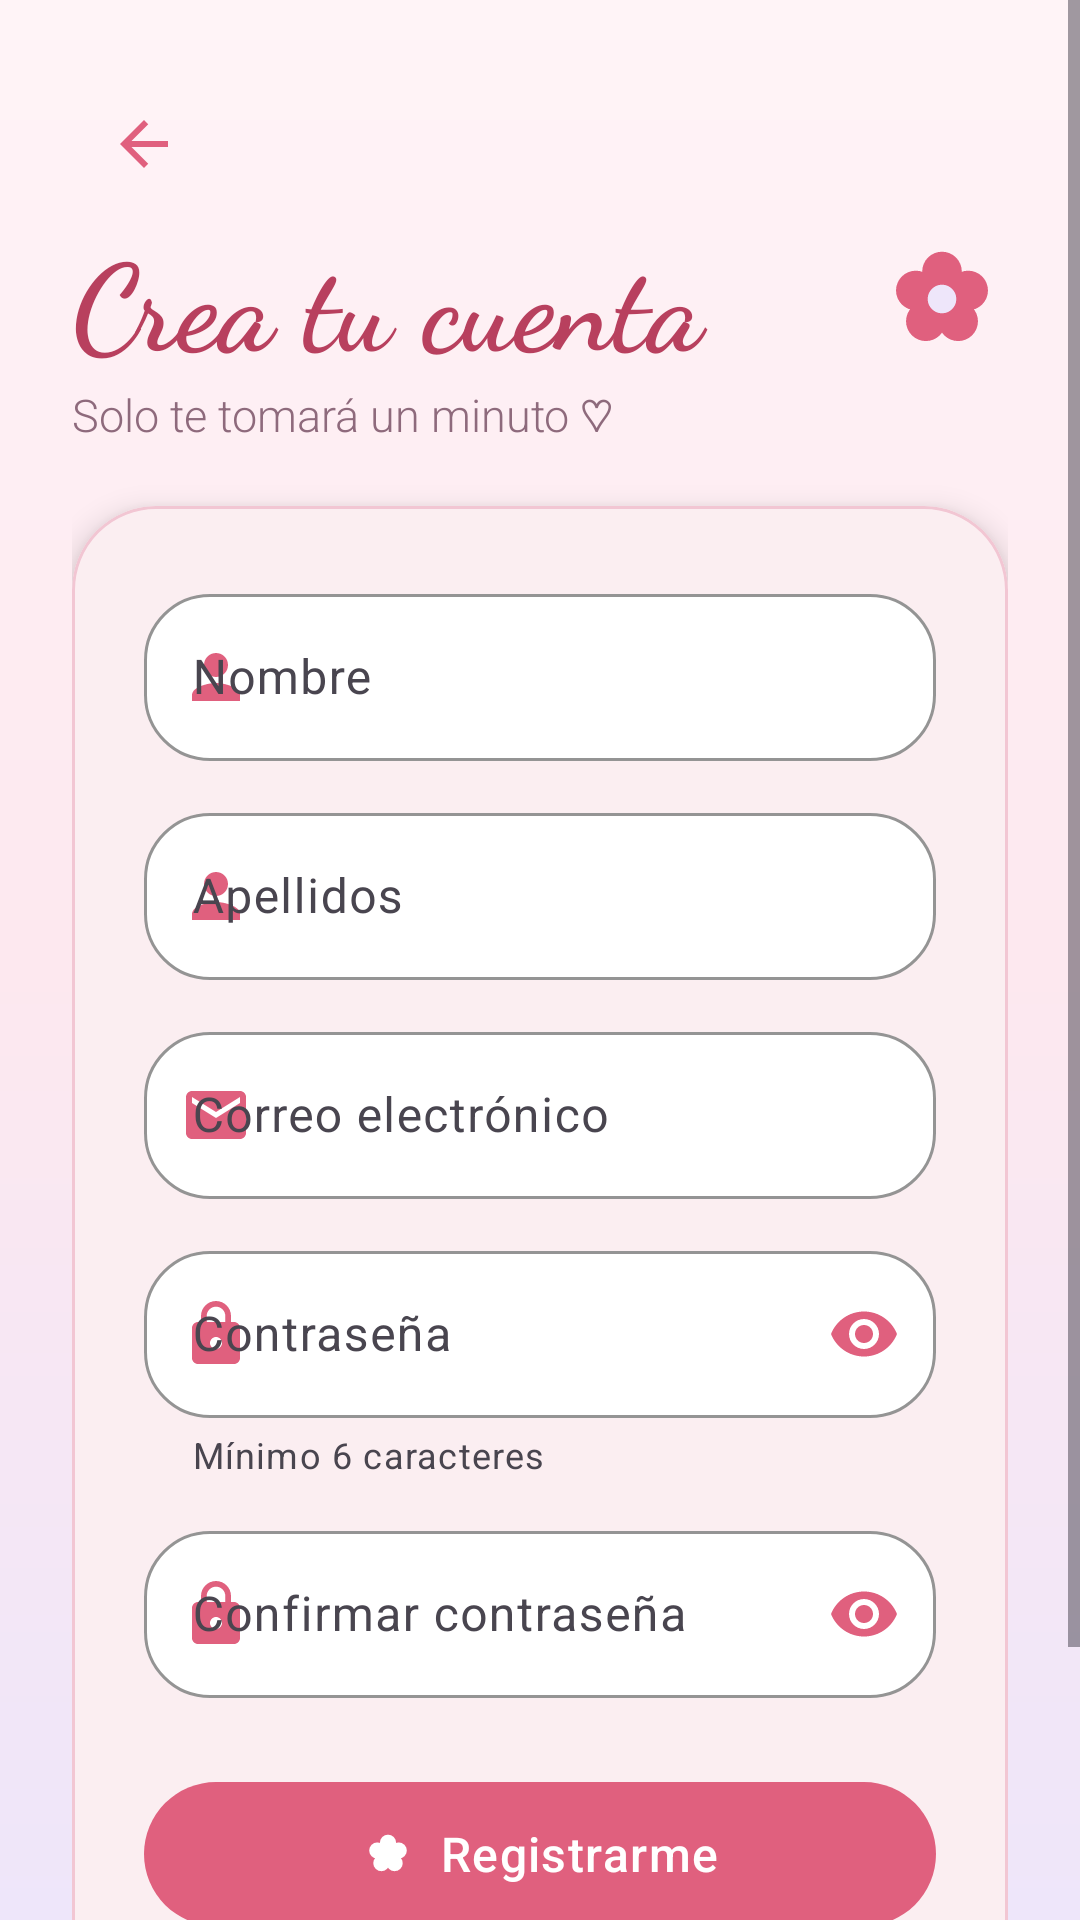

Point at icon controls on the screen. Image size 1080px×1920px, points as [x,y].
flor: [942,296]
